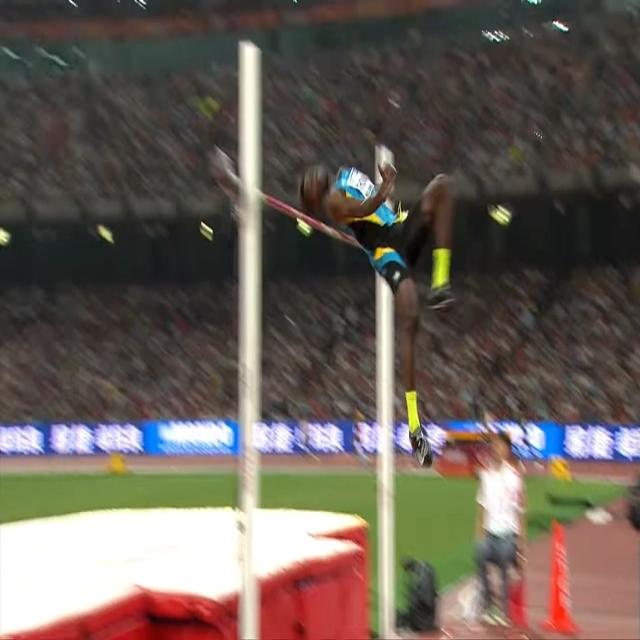jump: (299, 157, 457, 471)
